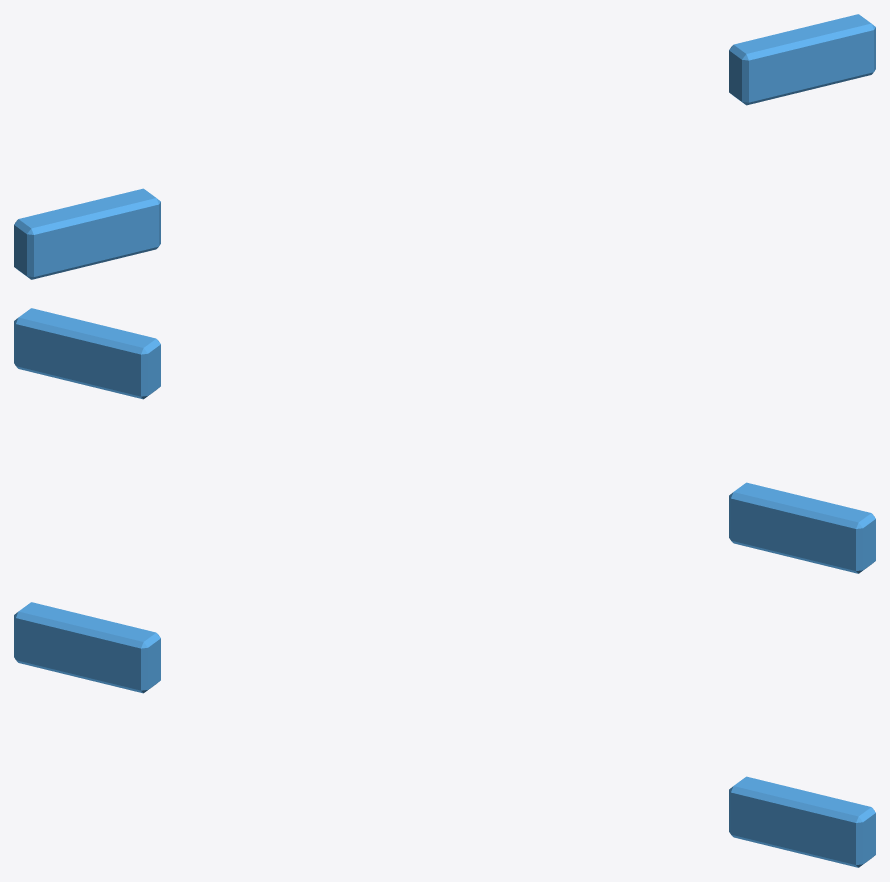
The model's file is chest__rib_trim__rib_stripe.glb.
3 renders of one model, top to bottom at view 1: azimuth 30°, elevation 25°; view 2: azimuth 150°, elevation 25°; view 3: azimuth 330°, elevation 25°, orthographic.
Visible parts, largest first — view 1: armor_topping_chest_rib_trim_rib_stripe_v001_v001; view 2: armor_topping_chest_rib_trim_rib_stripe_v001_v001; view 3: armor_topping_chest_rib_trim_rib_stripe_v001_v001.
Boxes of the visible parts, x1,y1,x2,y2 form: armor_topping_chest_rib_trim_rib_stripe_v001_v001: (14, 14, 875, 279); armor_topping_chest_rib_trim_rib_stripe_v001_v001: (14, 308, 875, 573); armor_topping_chest_rib_trim_rib_stripe_v001_v001: (14, 602, 875, 867).
Size of the model in its own units: 0.38 by 0.022 by 0.014.
